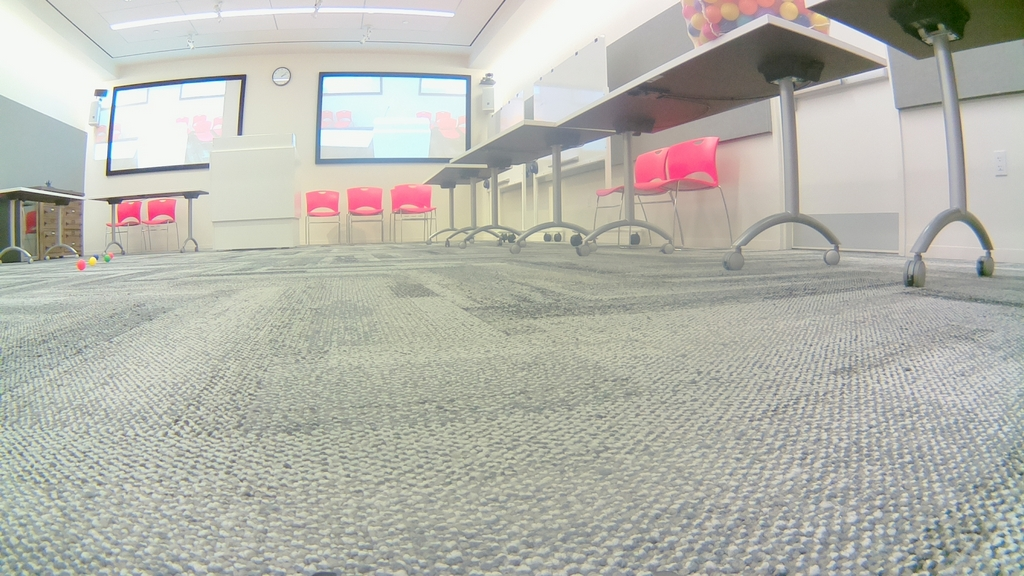ball: (92, 254, 99, 261)
